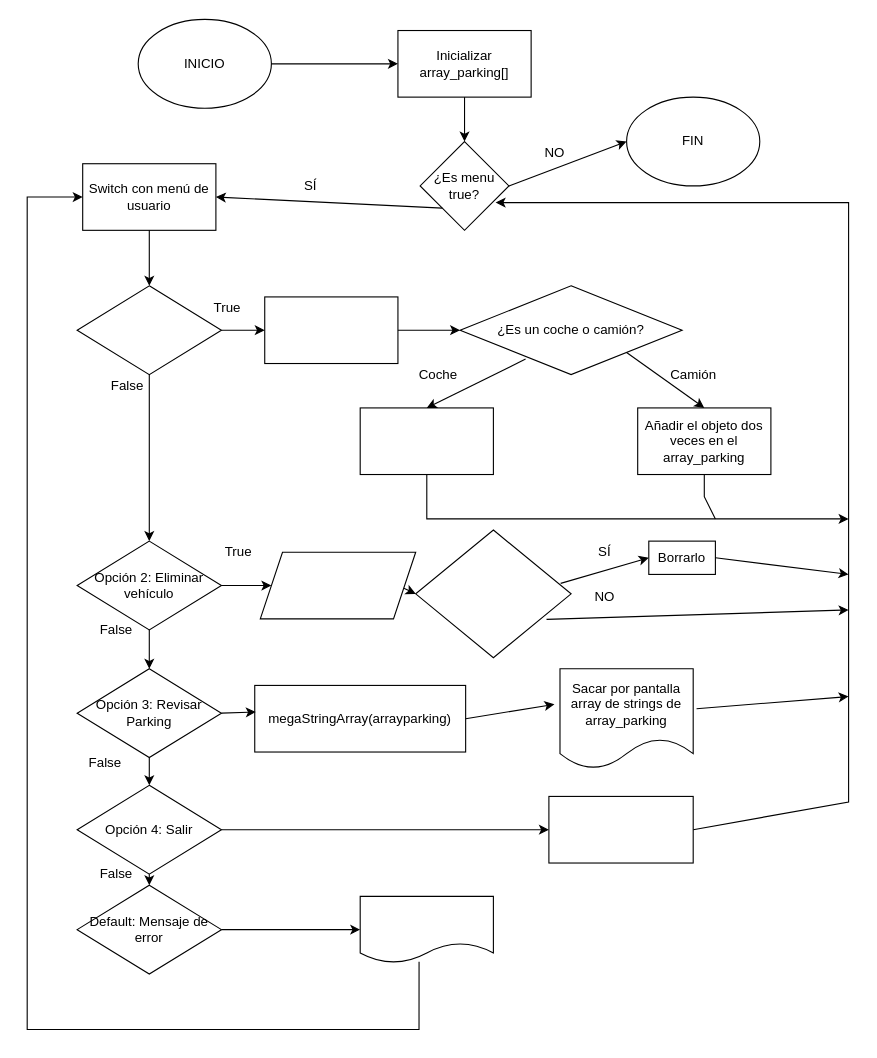
The diagram is 877 pixels wide and 1058 high, and some of its shapes have lost their labels. Each missing label, with the centre of its shape:
"Terrible, apocalíptico": (x=426, y=929)
Añadir el objeto una vez en el array_parking: (x=426, y=441)
generarvehiculo(): (x=331, y=330)
Introducir atributo ID del vehículo a eliminar: (x=337, y=585)
menu = false: (x=620, y=829)
Opción 1: Introducir vehículo: (x=148, y=330)
¿Coincide la ID con la de alguno de los objetos?: (x=493, y=593)
